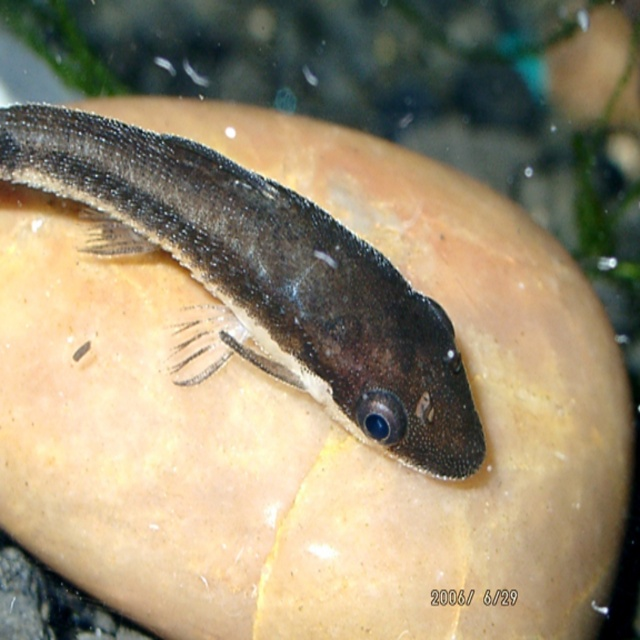Fish: (16, 80, 504, 477)
